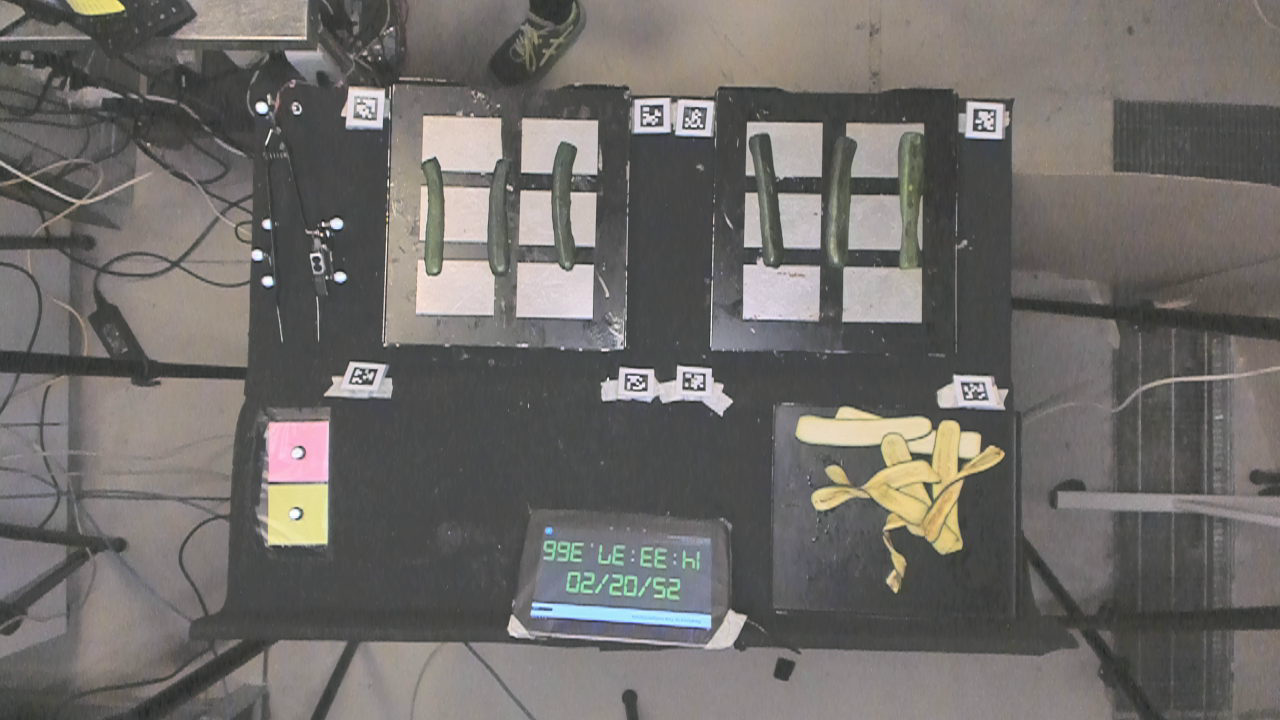marker: (267, 420, 329, 484)
zucchini: (892, 119, 935, 271), (786, 411, 930, 449), (750, 130, 788, 273), (549, 128, 585, 275), (827, 125, 858, 277), (487, 158, 517, 278), (423, 146, 446, 276)
